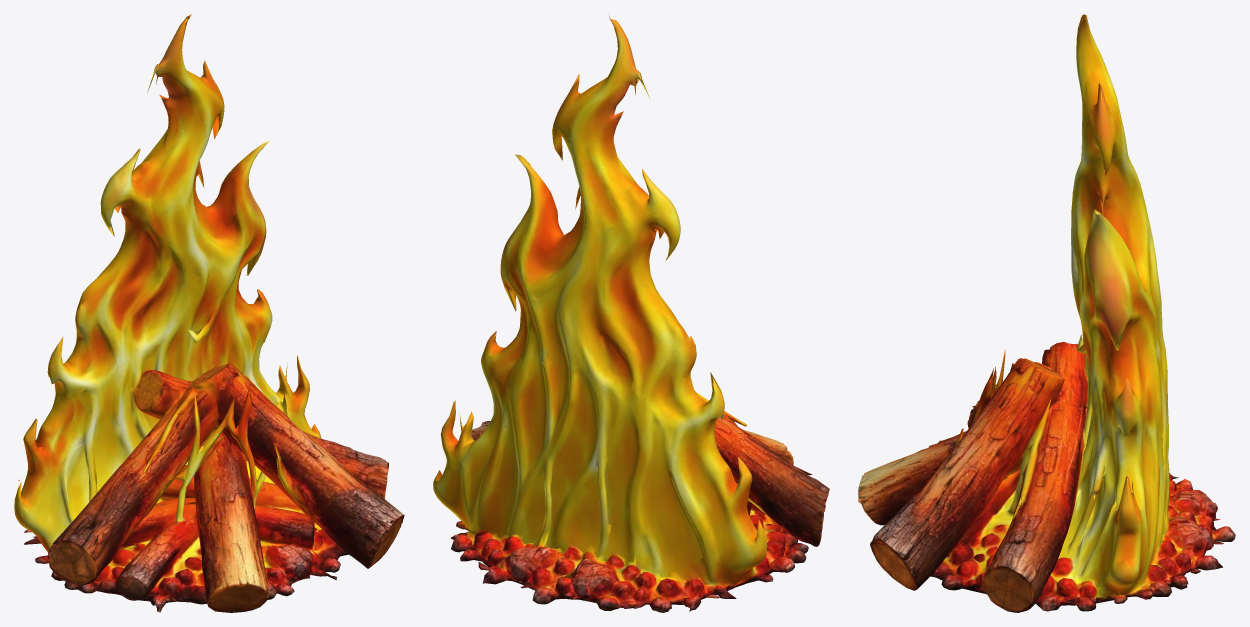
Rendered from fire.glb.
3 views of the same model, side by side, from view 1: azimuth 30°, elevation 25°; view 2: azimuth 150°, elevation 25°; view 3: azimuth 270°, elevation 25° (orthographic). The views are drawn at different scales.
Visible parts, largest first — view 1: tripo_node_a6b96f27-053a-4109-bd61-5df1a61d773d; view 2: tripo_node_a6b96f27-053a-4109-bd61-5df1a61d773d; view 3: tripo_node_a6b96f27-053a-4109-bd61-5df1a61d773d.
Boxes of the visible parts, left/top/right/bottom form: tripo_node_a6b96f27-053a-4109-bd61-5df1a61d773d: left=14, top=14, right=404, bottom=612; tripo_node_a6b96f27-053a-4109-bd61-5df1a61d773d: left=433, top=16, right=829, bottom=612; tripo_node_a6b96f27-053a-4109-bd61-5df1a61d773d: left=858, top=14, right=1235, bottom=612.
Bounding box in the file's own units: 0.6791 × 0.9793 × 0.6303.
1 material, 1 textured.
